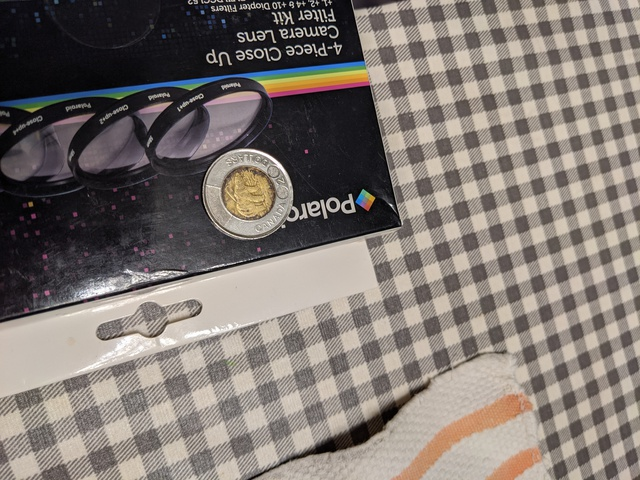twonie: (201, 140, 303, 245)
